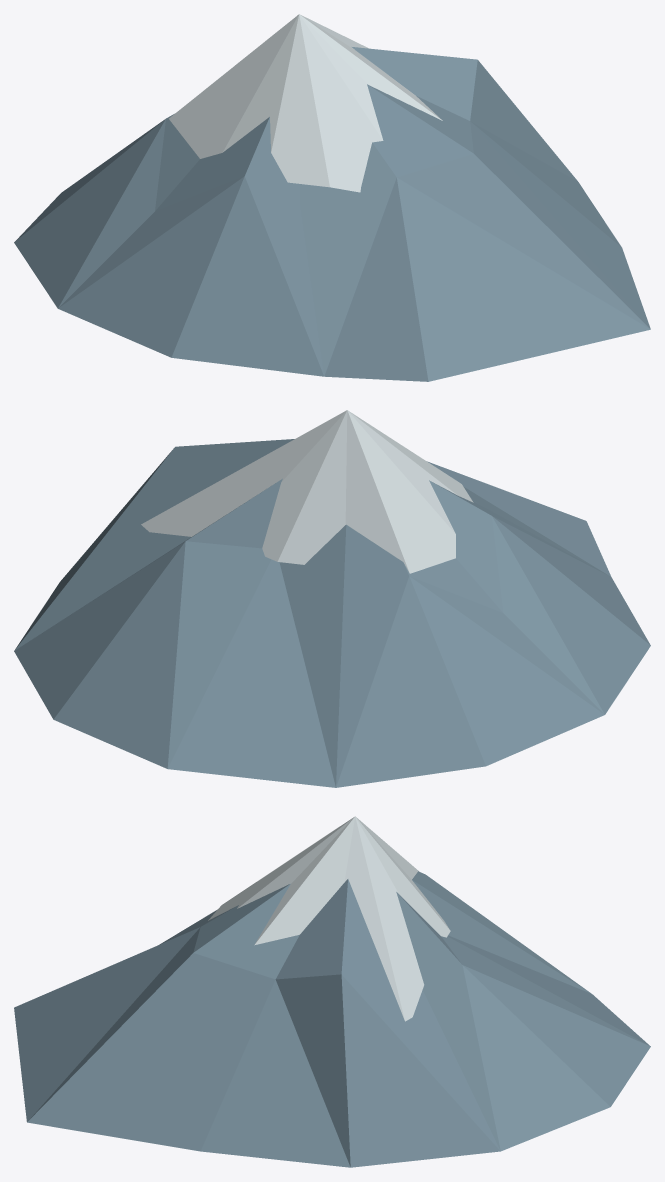
The model's file is Mountain with Snow by Matthew Creighton - 0VBAQNbpNcl.glb.
3 renders of one model, top to bottom at view 1: azimuth 30°, elevation 25°; view 2: azimuth 150°, elevation 25°; view 3: azimuth 270°, elevation 25°, orthographic. The views are drawn at different scales.
Parts seen in each view (by area): view 1: group1104003827, group1161604268; view 2: group1104003827, group1161604268; view 3: group1104003827, group1161604268.
Part boxes in pixels (x1,y1,x2,y2): group1104003827: [14, 47, 650, 381]; group1161604268: [169, 14, 442, 192]; group1104003827: [14, 439, 650, 787]; group1161604268: [141, 410, 473, 573]; group1104003827: [14, 871, 650, 1167]; group1161604268: [208, 816, 450, 1021].
Size of the model in its own units: 0.63 by 0.28 by 0.7.
